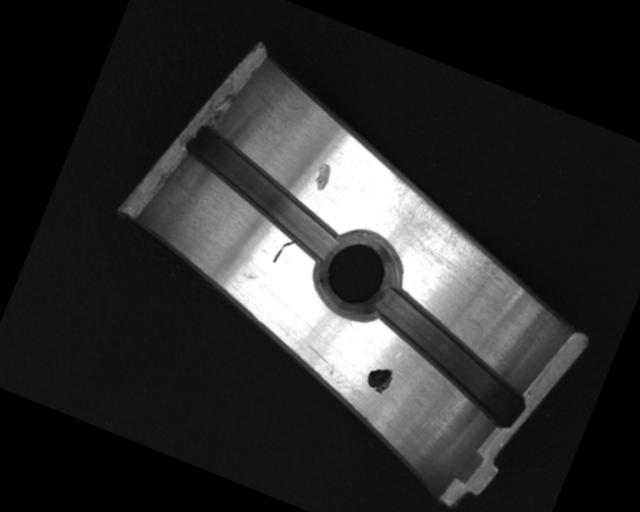blot: (362, 361, 397, 398)
bruise: (309, 159, 336, 195)
gap: (349, 285, 546, 430), (166, 121, 359, 262)
hole: (301, 217, 414, 328)
nick: (271, 236, 295, 267)
scratch: (363, 168, 528, 289)
